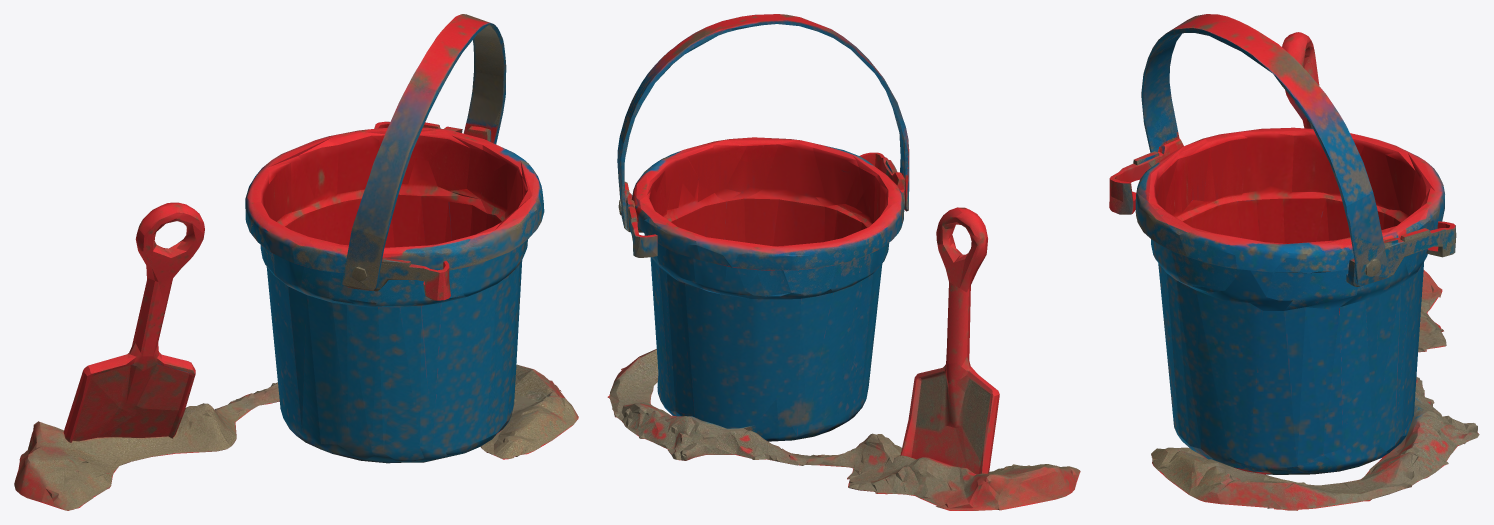
Rendered from secchiello.glb.
3 views of the same model, side by side, from view 1: azimuth 30°, elevation 25°; view 2: azimuth 150°, elevation 25°; view 3: azimuth 270°, elevation 25° (orthographic). The views are drawn at different scales.
Bounding box in the file's own units: 1.9 × 1.43 × 1.13.
1 material, 1 textured.
